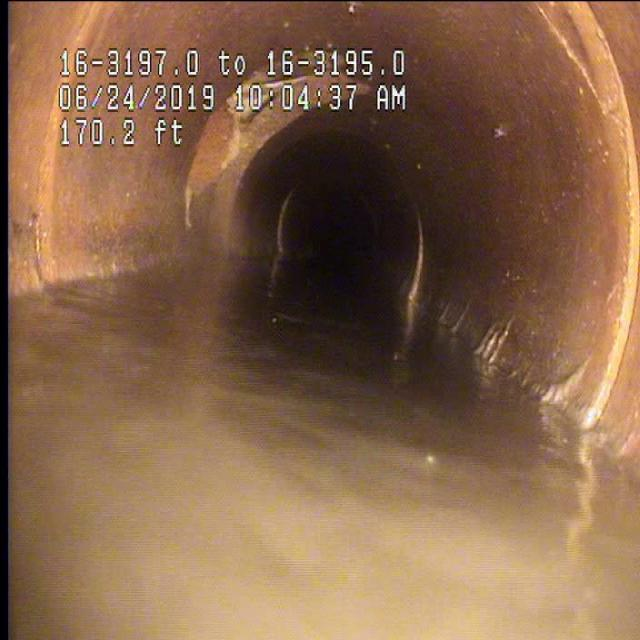Crack: (520, 5, 635, 136)
